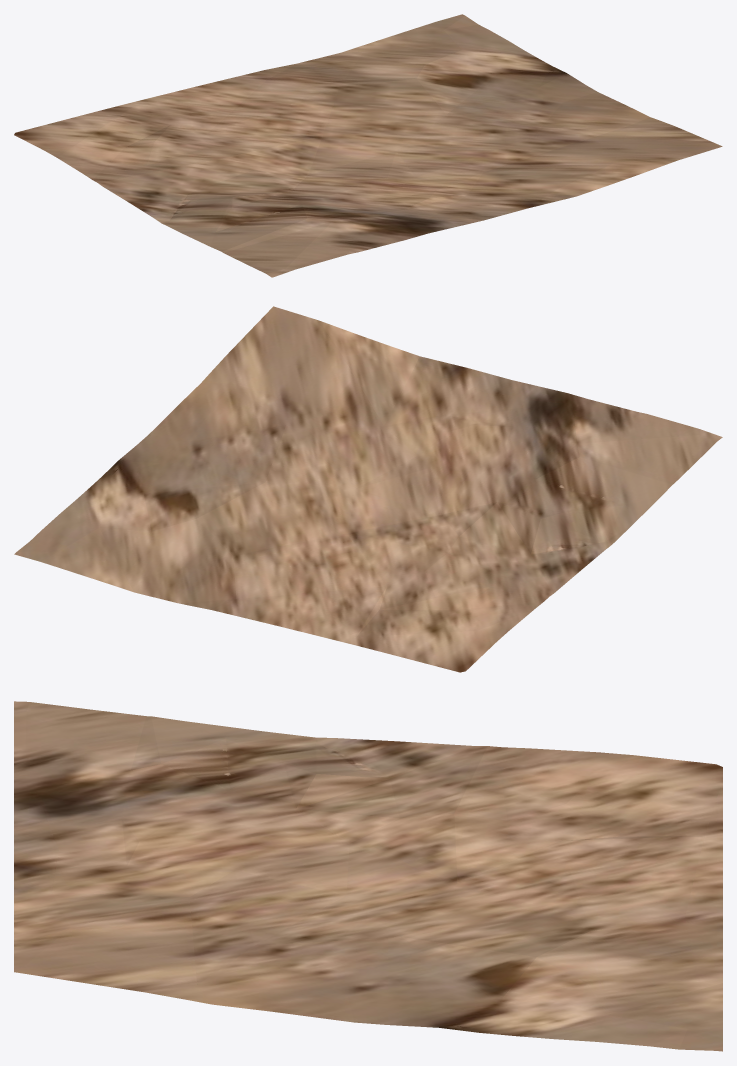
3 renders of one model, top to bottom at view 1: azimuth 30°, elevation 25°; view 2: azimuth 150°, elevation 25°; view 3: azimuth 270°, elevation 25°, orthographic. The views are drawn at different scales.
Bounding box in the file's own units: 2.09 × 0.2996 × 2.09.
Materials: 2 (2 with a texture image).
